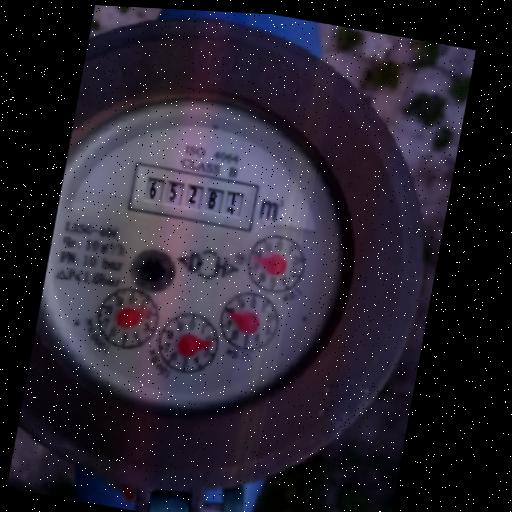1: (226, 192, 243, 216)
2: (185, 185, 205, 210)
5: (166, 181, 185, 206)
6: (145, 178, 164, 204)
8: (207, 189, 223, 212)
border_water_meter_number: (125, 161, 261, 232)
